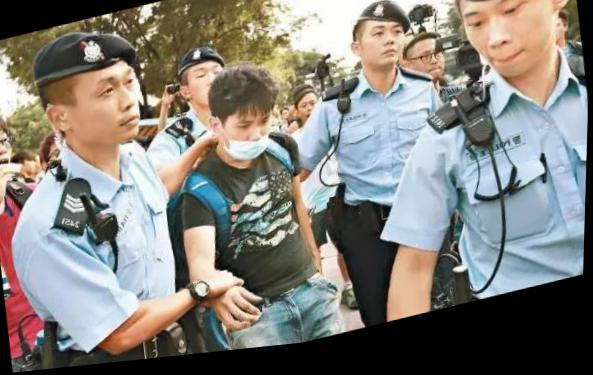NONE: (458, 1, 559, 98), (70, 66, 146, 155), (358, 26, 410, 81), (184, 66, 230, 118), (411, 50, 448, 95), (1, 125, 19, 183), (301, 103, 321, 129)
WRONG: (222, 113, 277, 172)
